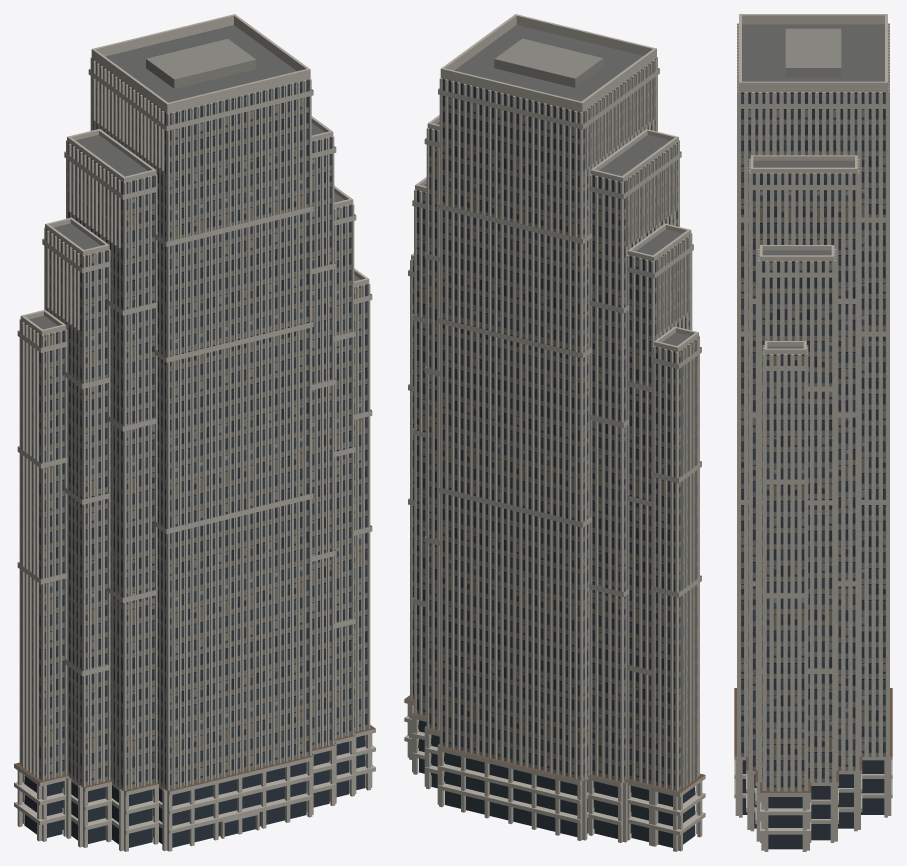
Rendered from embarcadero_center.glb.
3 renders of one model, left to right at view 1: azimuth 30°, elevation 25°; view 2: azimuth 150°, elevation 25°; view 3: azimuth 270°, elevation 25°, orthographic.
Parts seen in each view (by area): view 1: embarcadero_center; view 2: embarcadero_center; view 3: embarcadero_center.
Part boxes in pixels (x1,y1,x2,y2): embarcadero_center: (14,14,375,851); embarcadero_center: (404,14,705,851); embarcadero_center: (734,14,892,851).
Bounding box in the file's own units: 75.01 × 174 × 34.01.
Materials: 2 (2 with a texture image).
